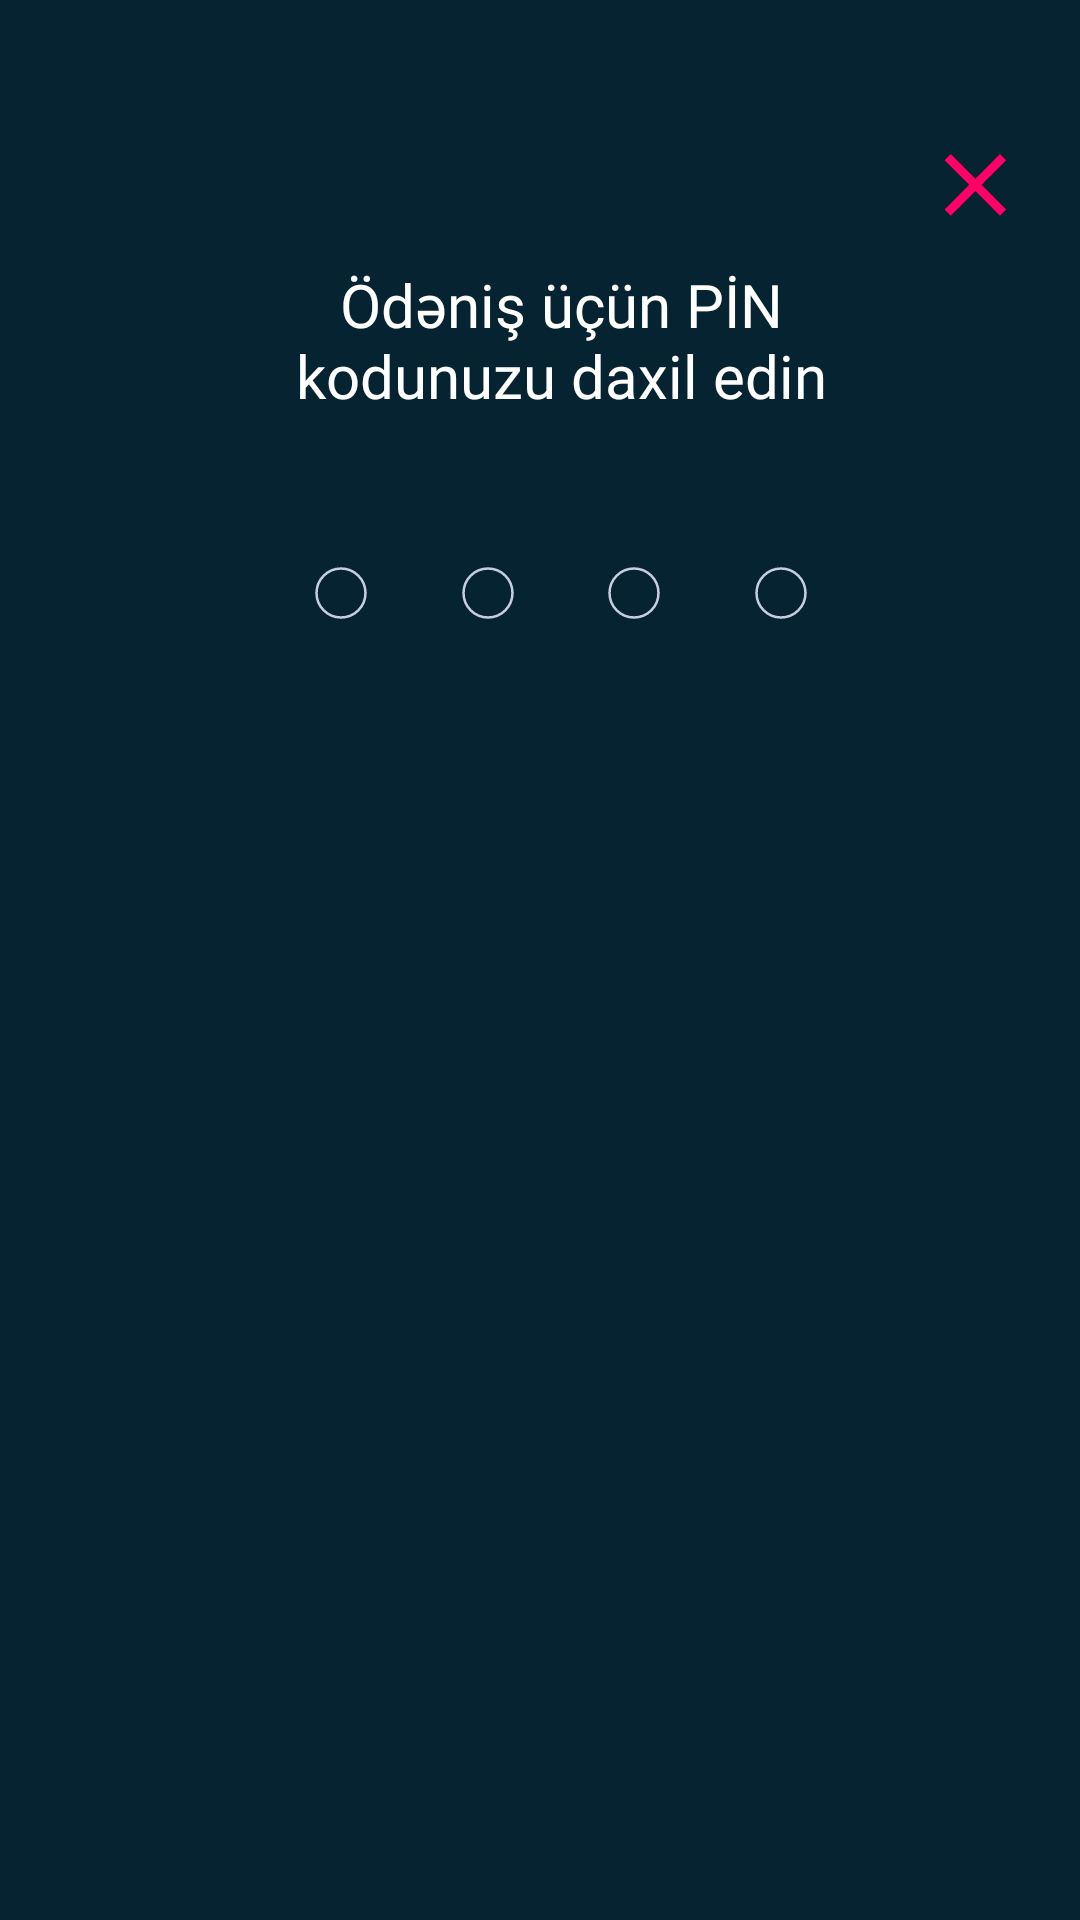

Point at icon controls on the screen. Image size 1080x1920, points as [x,y].
close: [975,185]
empty dot: [341,593], [488,593], [634,593], [781,593]
